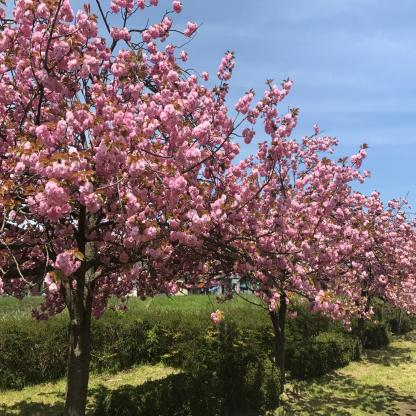YaeSakura: (0, 0, 236, 314), (217, 75, 370, 320), (340, 191, 416, 319)
